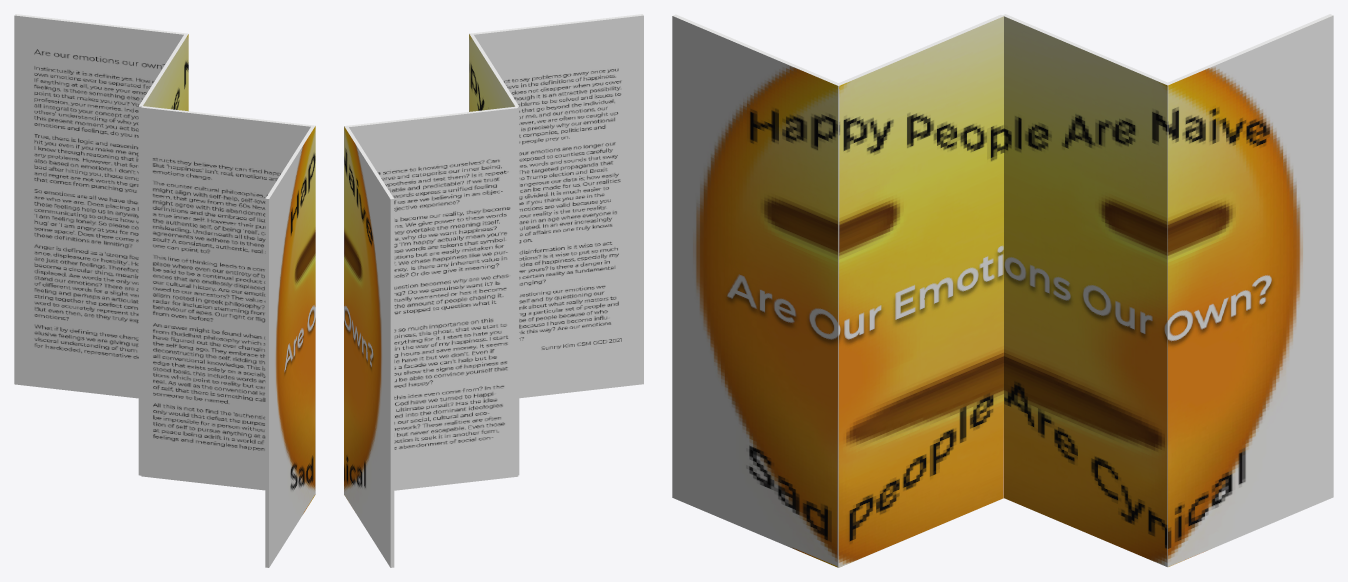
File: emotions3.obj
The picture shows the model from 3 angles, left to right: view 1: azimuth 30°, elevation 25°; view 2: azimuth 150°, elevation 25°; view 3: azimuth 270°, elevation 25°; orthographic projection. The views are drawn at different scales.
Parts seen in each view (by area): view 1: people_Cube.001, naive_Cube.003, happy_Cube.002, are_Cube; view 2: are_Cube, happy_Cube.002, naive_Cube.003, people_Cube.001; view 3: happy_Cube.002, naive_Cube.003, people_Cube.001, are_Cube.
Part boxes in pixels (<box>): people_Cube.001: <box>141,106,315,490</box>; naive_Cube.003: <box>14,14,187,398</box>; happy_Cube.002: <box>265,125,315,567</box>; are_Cube: <box>138,33,188,475</box>; are_Cube: <box>344,106,518,490</box>; happy_Cube.002: <box>470,14,643,398</box>; naive_Cube.003: <box>344,126,394,567</box>; people_Cube.001: <box>469,33,519,475</box>; happy_Cube.002: <box>672,14,840,567</box>; naive_Cube.003: <box>1167,14,1333,566</box>; people_Cube.001: <box>838,14,1003,567</box>; are_Cube: <box>1002,14,1170,567</box>.
Bounding box in the file's own units: 1.46 × 4.54 × 5.64.
